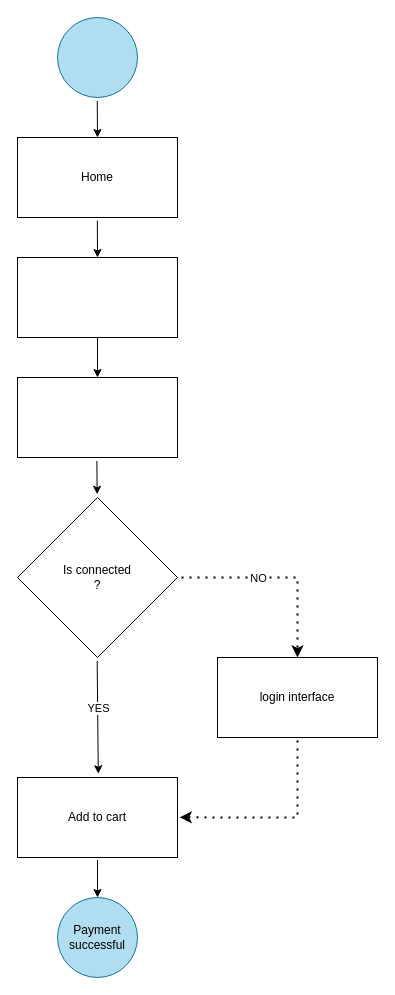
This 395x995 diagram has some shape labels left out. The shapes that lost their labels are listed below. From the top down, each one's box as (x1, y1, x2, y2) in pixels, then its label:
(56, 16, 138, 98): website visit
(16, 256, 178, 338): Article selection
(16, 376, 178, 458): 3D customization interface
